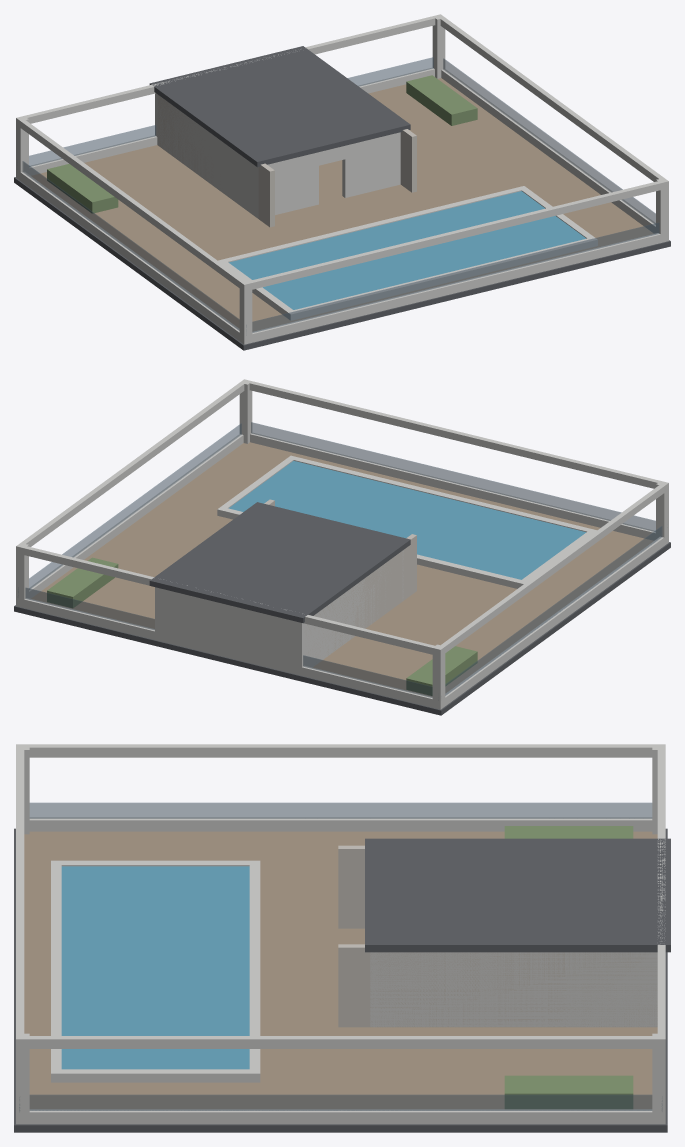
Rendered from condo-roof-b.skyline-v2.lod0.glb.
3 renders of one model, top to bottom at view 1: azimuth 30°, elevation 25°; view 2: azimuth 150°, elevation 25°; view 3: azimuth 270°, elevation 25°, orthographic. The views are drawn at different scales.
Parts seen in each view (by area): view 1: condo-roof-b; view 2: condo-roof-b; view 3: condo-roof-b.
Boxes of the visible parts, x1,y1,x2,y2 form: condo-roof-b: (14, 14, 670, 350); condo-roof-b: (14, 379, 670, 715); condo-roof-b: (14, 744, 670, 1132).
Size of the model in its own units: 26.16 by 3.8 by 24.48.
